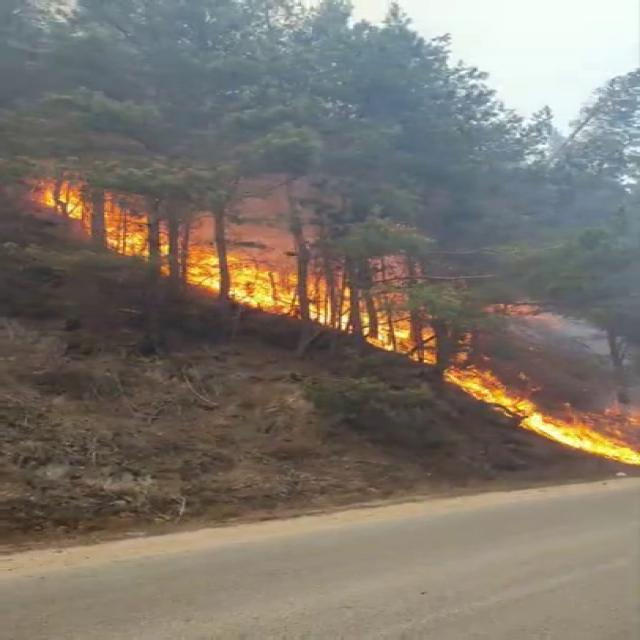Fire: (176, 228, 438, 358), (444, 351, 640, 467), (24, 168, 160, 255)
